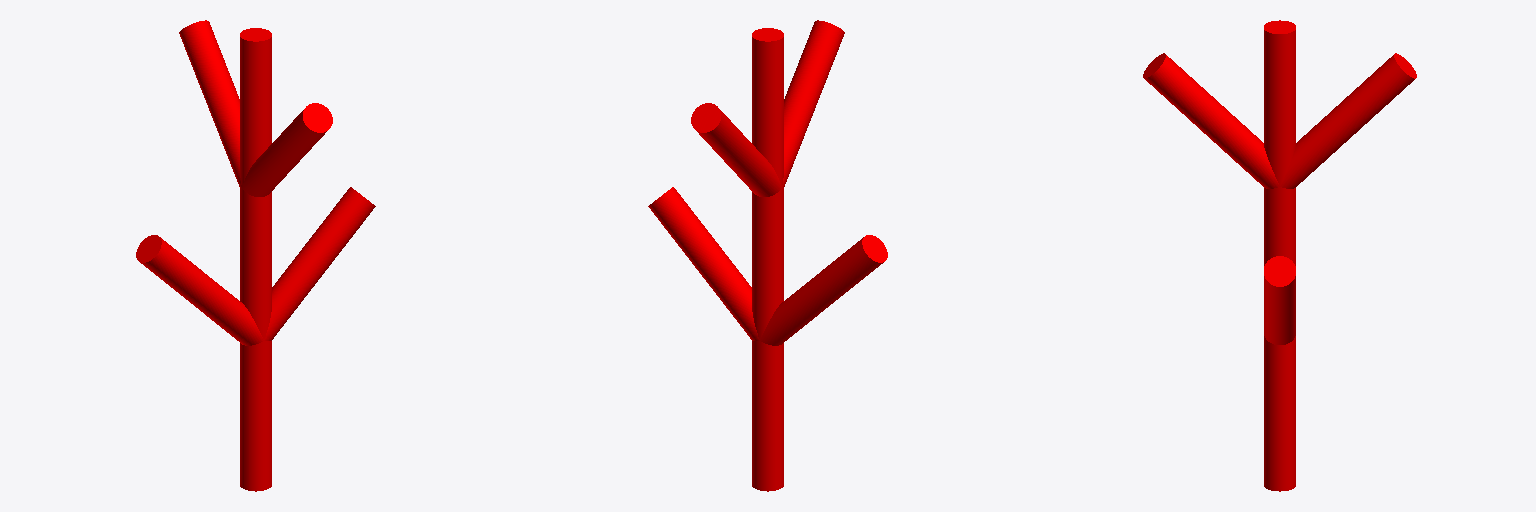
robot.urdf — tree.urdf:
<?xml version="1.0" ?>
<robot name="tree.urdf">
  <link name="baseLink">
    <inertial>
      <origin rpy="0 0 0" xyz="0 0 0"/>
       <mass value=".1"/>
       <inertia ixx="1" ixy="0" ixz="0" iyy="1" iyz="0" izz="1"/>
    </inertial>
    <visual>
      <origin rpy="0 0 0" xyz="0 0 0"/>
      <geometry>
        <mesh filename="6.stl" scale="1 1 1" />
      </geometry>
      <material name="red">
        <color rgba="1 0 0 1"/>
      </material>
    </visual>
    <collision>
      <origin rpy="0 0 0" xyz="0 0 0"/>
      <geometry>
        <mesh filename="6_convex.obj" scale="1 1 1" />
      </geometry>
    </collision>
  </link>
</robot>

--- What the picture shows (computed from the rendered views, not written in the file) ---
Views: 3 orthographic renders of the robot side by side, from view 1: azimuth 30°, elevation 25°; view 2: azimuth 150°, elevation 25°; view 3: azimuth 270°, elevation 25°.
Robot: tree.urdf — 1 links, 0 joints (none); root link baseLink; default pose: every joint at zero.
Visible links, largest first — view 1: baseLink; view 2: baseLink; view 3: baseLink.
Link boxes in pixels (bbox=[...]): baseLink: bbox=[136, 20, 375, 491]; baseLink: bbox=[648, 20, 887, 491]; baseLink: bbox=[1143, 20, 1416, 491].
Size in the robot's own frame: 0.2808 by 0.2808 by 0.5162 metres.
1 mesh visuals loaded from 1 distinct referenced files (1 binary STL).